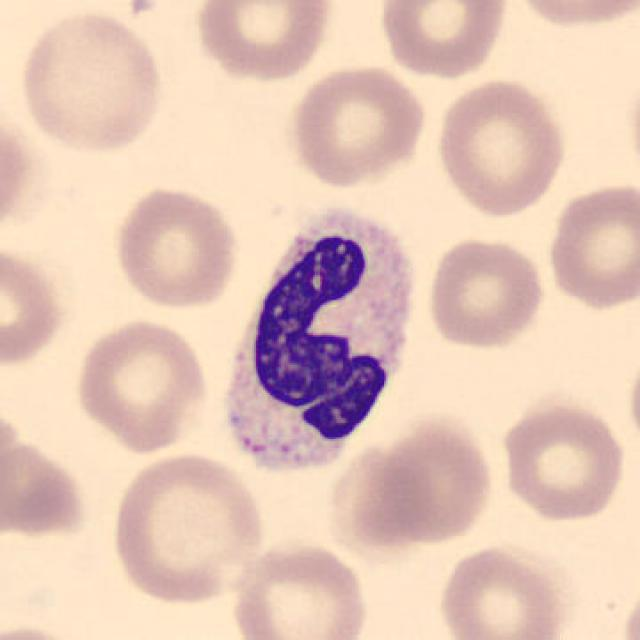Neutrophil: (211, 198, 426, 494)
RBC: (106, 450, 268, 608), (327, 411, 500, 555), (14, 5, 167, 157), (432, 75, 571, 218), (71, 315, 212, 455), (284, 60, 430, 190), (109, 182, 244, 312), (496, 395, 629, 525), (226, 536, 373, 640), (423, 232, 549, 352), (434, 541, 574, 640), (542, 176, 638, 312), (190, 0, 338, 85), (375, 0, 512, 81), (0, 429, 86, 540), (0, 242, 71, 370), (0, 101, 36, 245), (506, 0, 640, 31), (0, 619, 101, 640)
